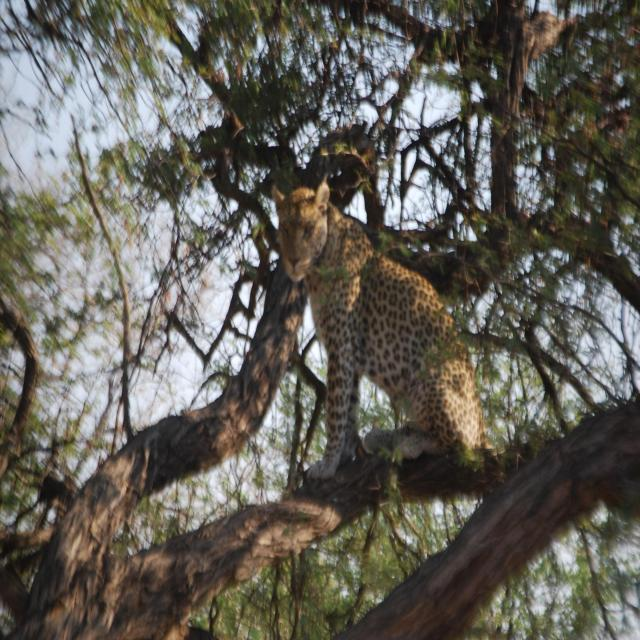Leopard: (264, 184, 494, 486)
